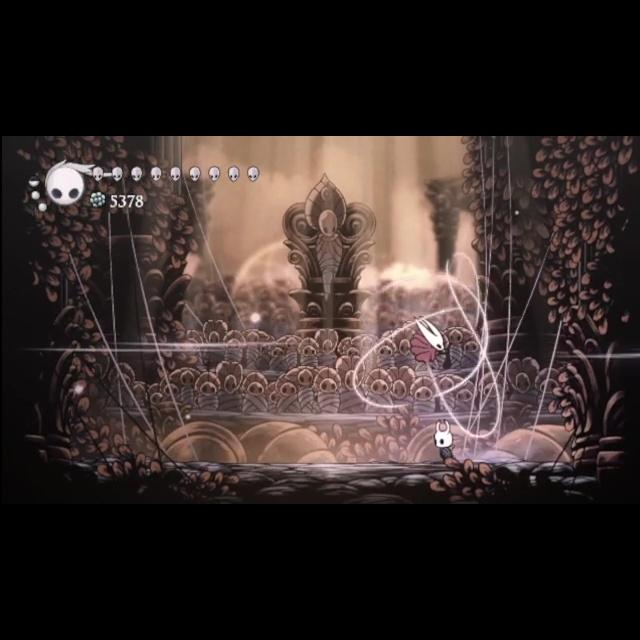EnemyAirAttack: (402, 314, 454, 376)
Player: (430, 418, 464, 468)
